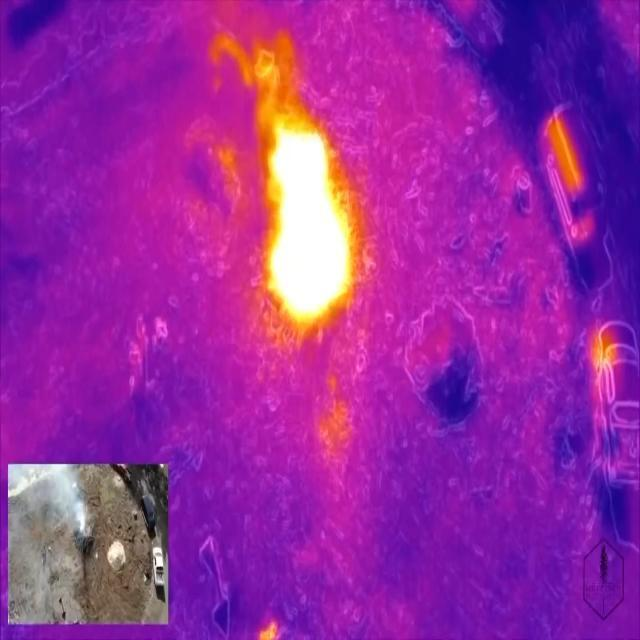fire: (269, 118, 356, 329)
